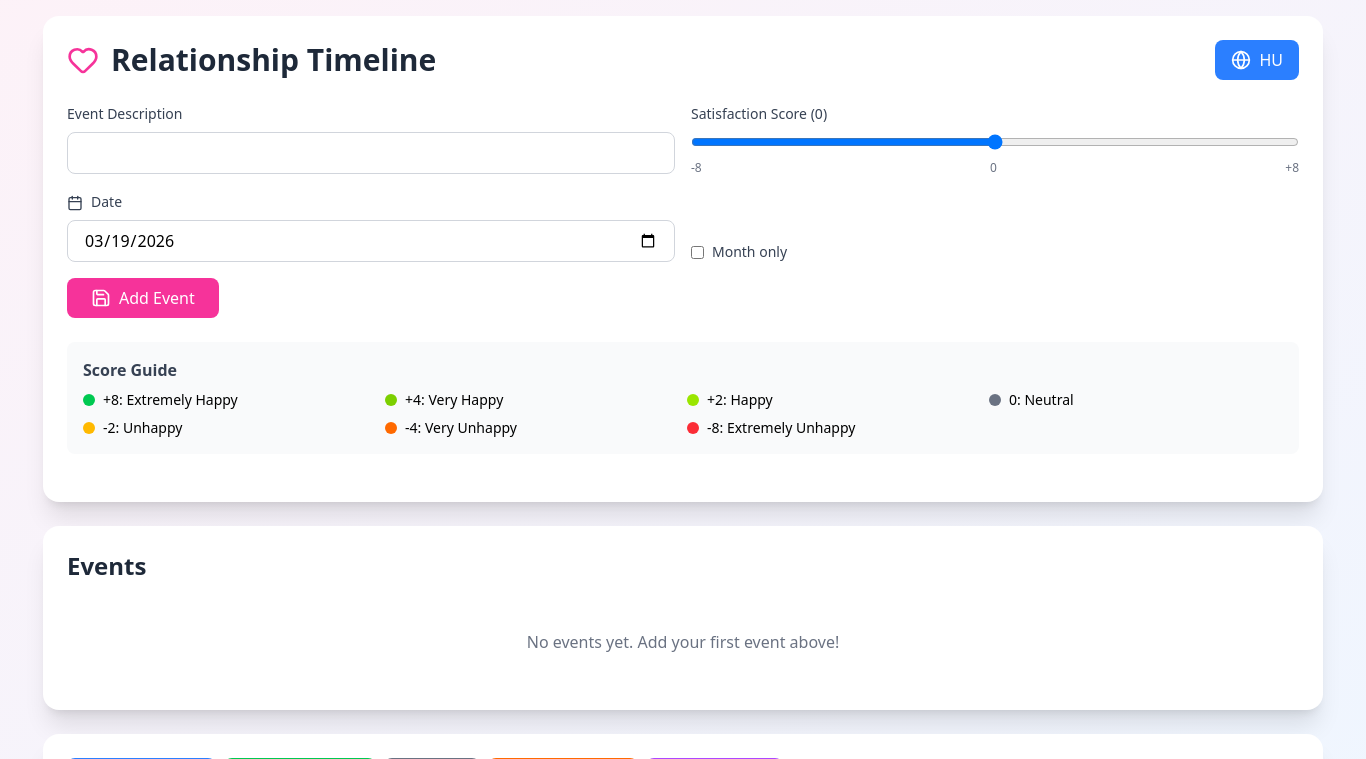
Test: RelationshipTimeline Component › Adding Events › should handle month-only dates
In the field labelled "Event Description": (371, 153) [67,132,675,174], type "Monthly Event"
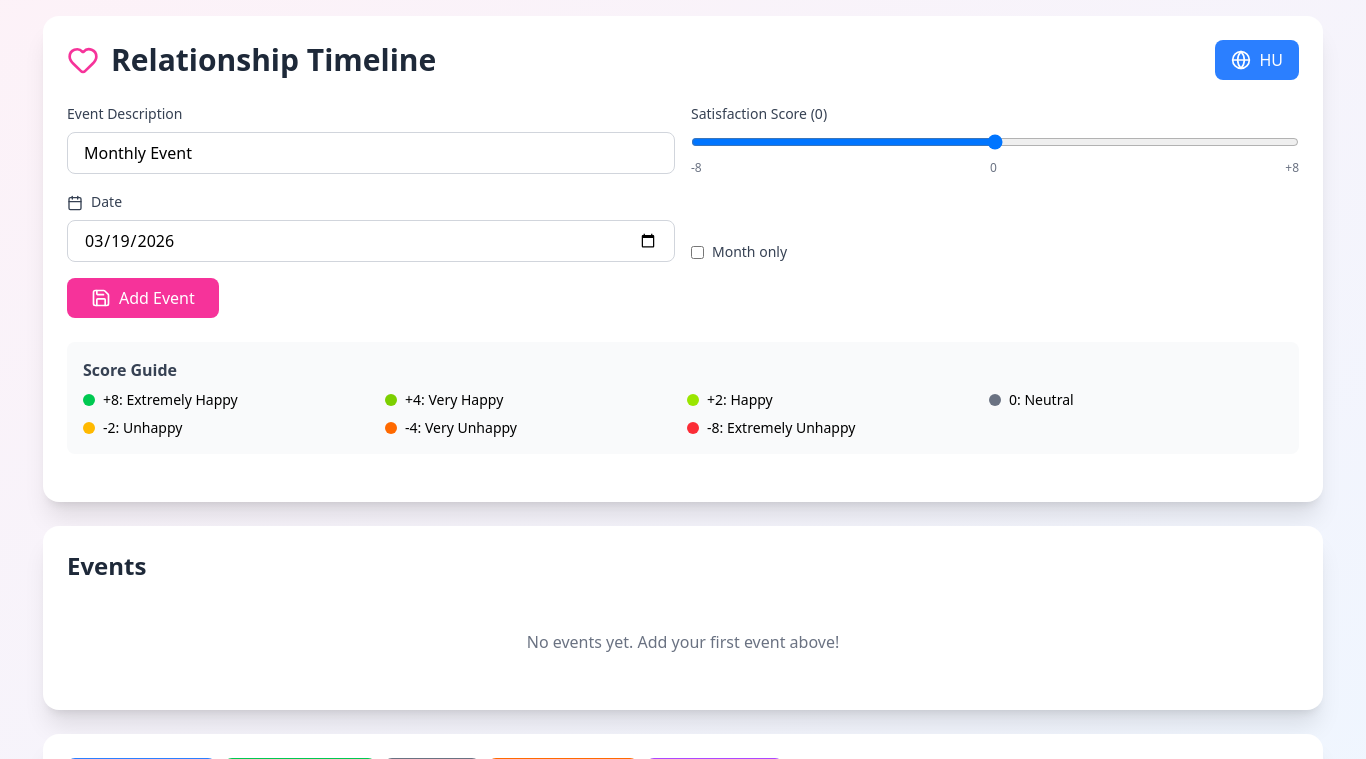
Click the checkbox labelled "Month only": (698, 252) [691,246,704,258]
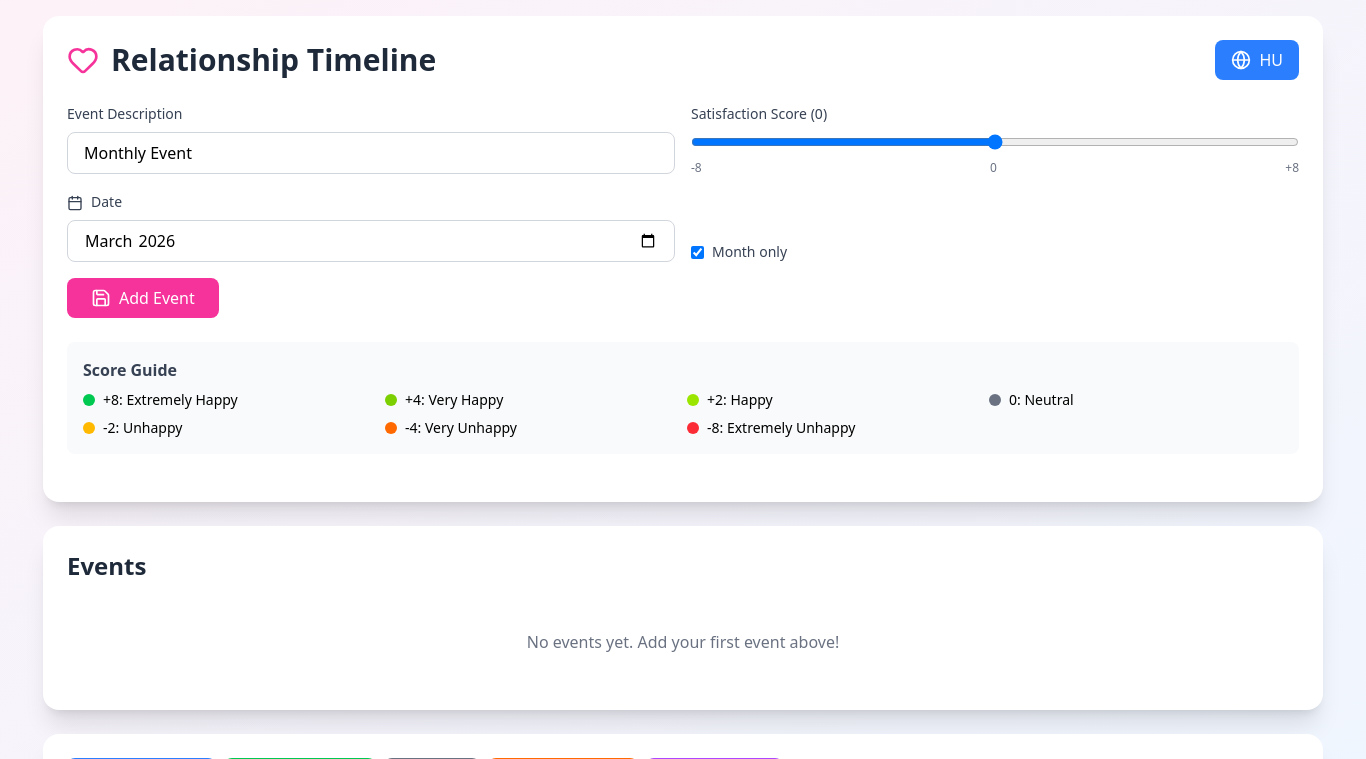
Click the button "Add Event": (143, 298) [67,278,219,318]
(page scrolled)
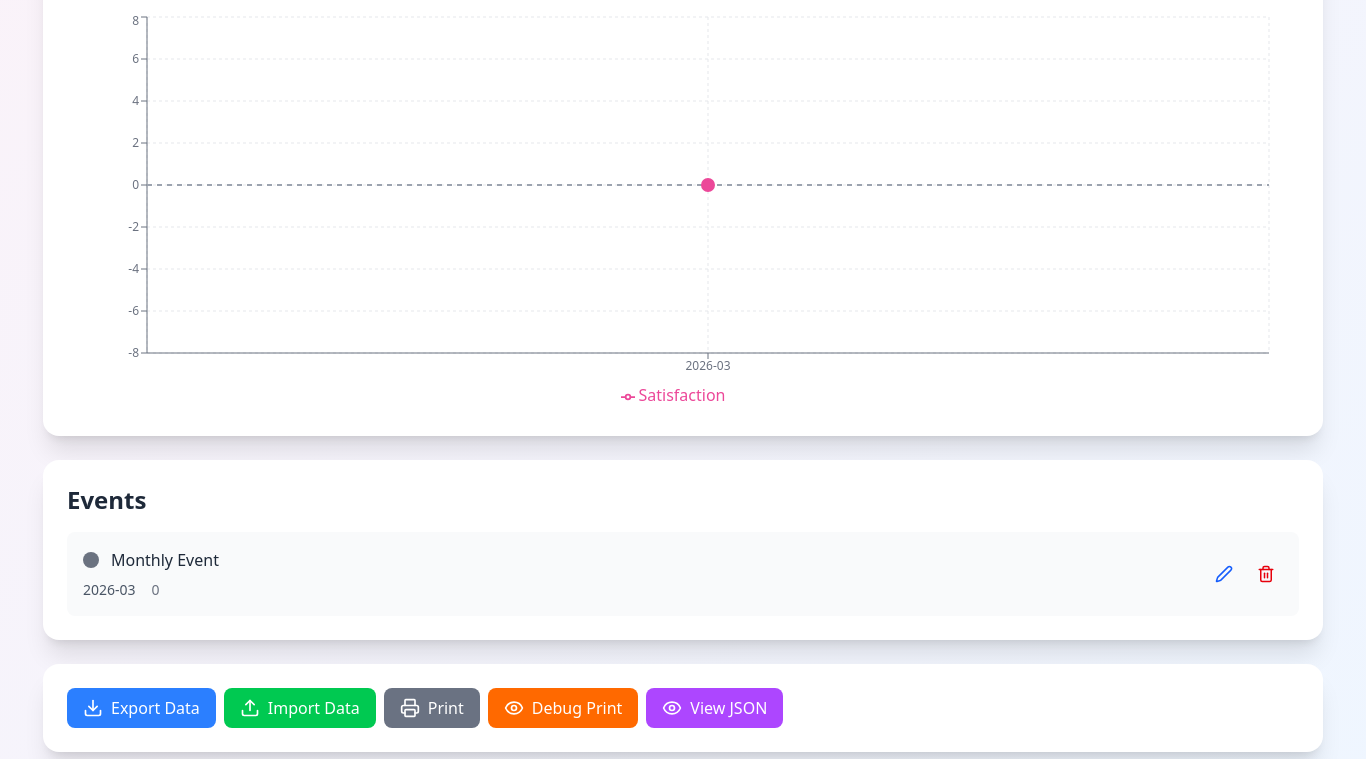
expect the text "Monthly Event" is shown: met, box [111,548,219,572]
